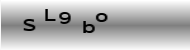9: (58, 11, 71, 24)
L: (43, 8, 57, 22)
S: (21, 18, 37, 32)
b: (82, 20, 94, 33)
o: (95, 12, 107, 22)
